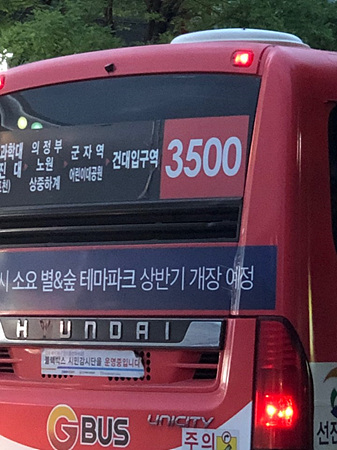bnum: (163, 135, 245, 179)
